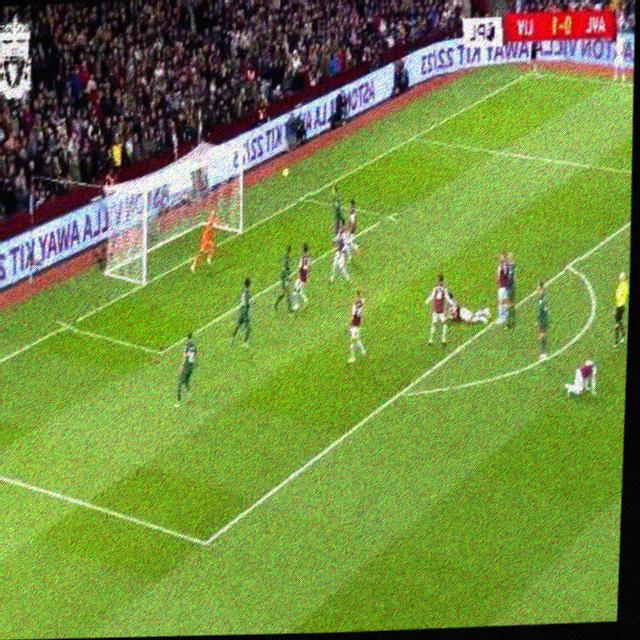bigarea_bottom_inner: (191, 519, 221, 561)
bigarea_top_outter: (404, 127, 420, 145)
bottom_arc_area_intersection: (390, 378, 412, 404)
corner: (521, 63, 541, 79)
smallarea_bottom_inner: (149, 334, 173, 366)
smallarea_bottom_outter: (55, 311, 76, 336)
smallarea_top_inner: (379, 203, 398, 225)
smallarea_top_outter: (296, 186, 312, 207)
top_arc_area_intersection: (564, 252, 581, 274)
